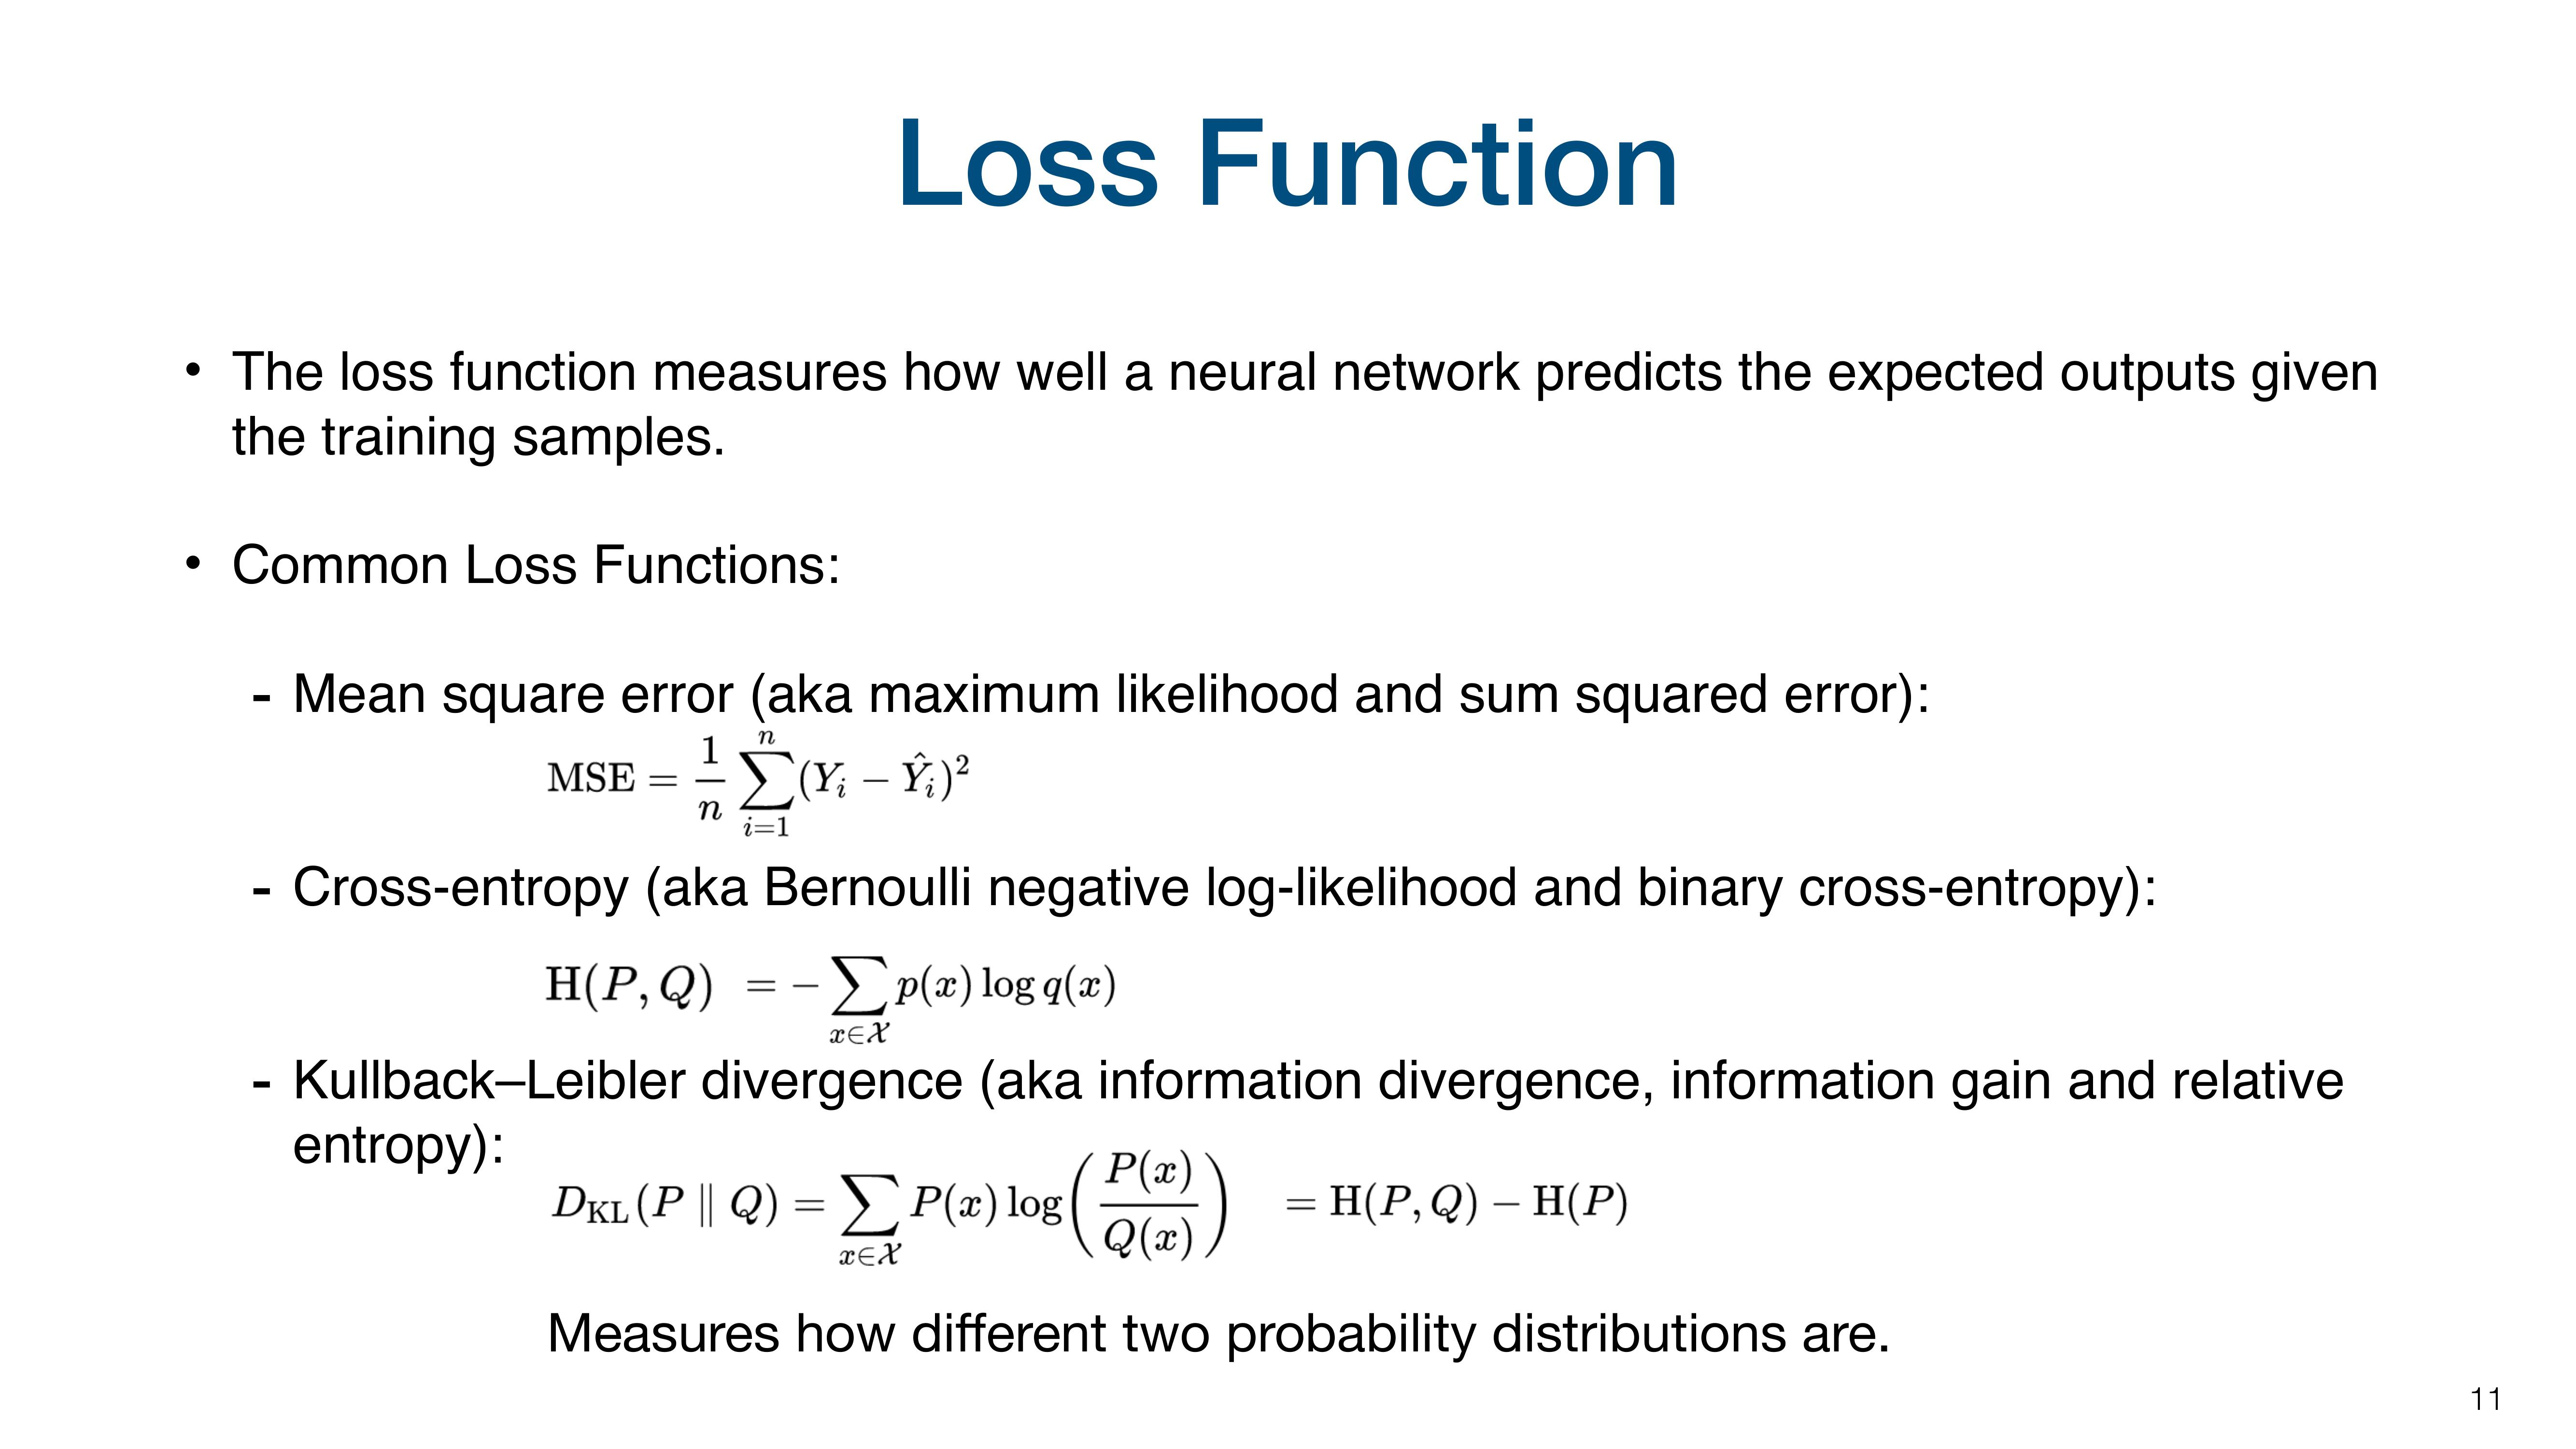Title: (856, 78, 1695, 239)
